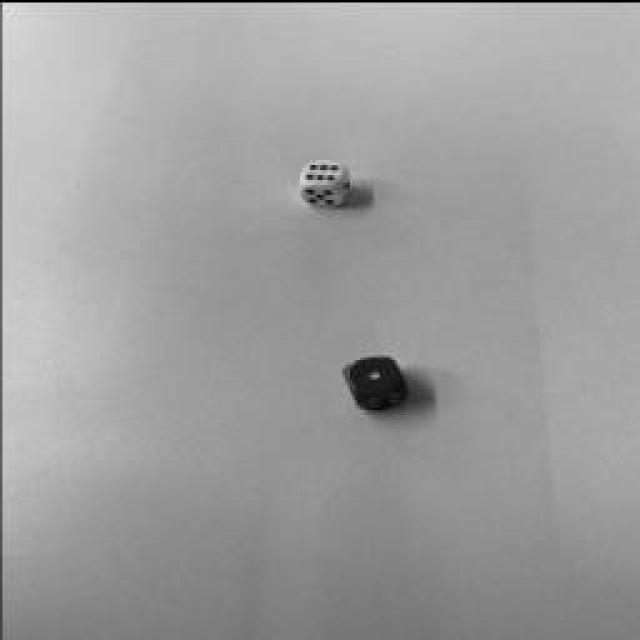dice_1: (348, 355, 400, 393)
dice_6: (300, 158, 342, 184)
